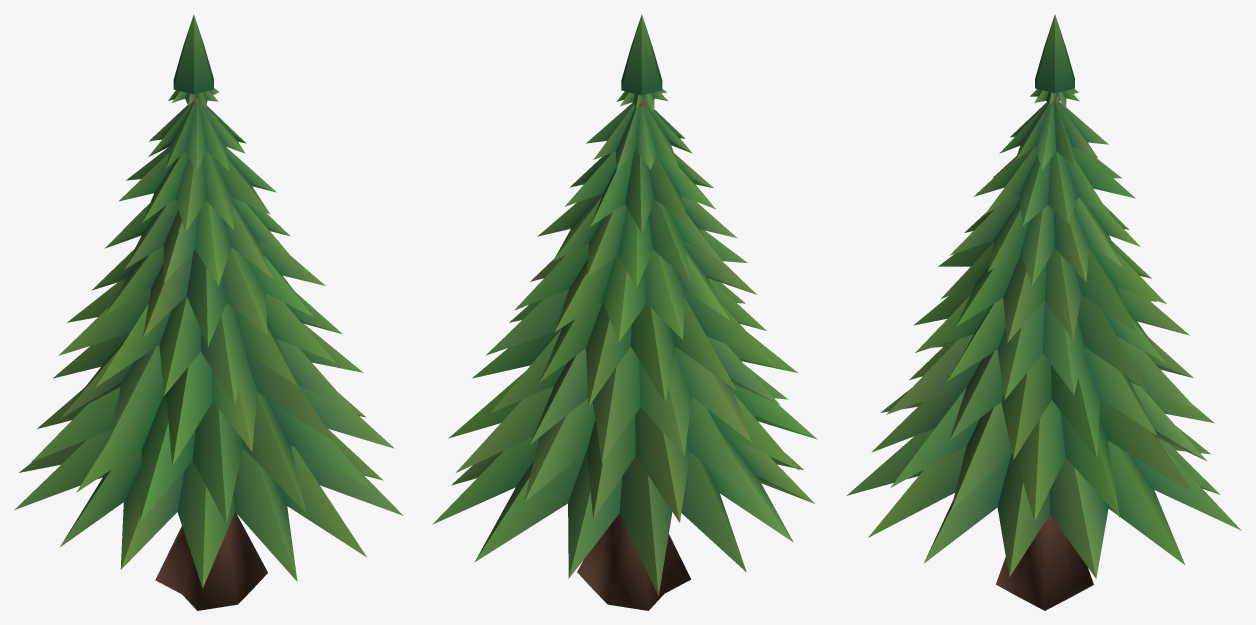
The model's file is f_pine2.glb.
3 views of the same model, side by side, from view 1: azimuth 30°, elevation 25°; view 2: azimuth 150°, elevation 25°; view 3: azimuth 270°, elevation 25° (orthographic). The views are drawn at different scales.
Parts seen in each view (by area): view 1: pine2; view 2: pine2; view 3: pine2.
Boxes of the visible parts, bbox=[...] form: pine2: bbox=[14, 14, 403, 610]; pine2: bbox=[432, 14, 817, 610]; pine2: bbox=[846, 14, 1241, 610].
Bounding box in the file's own units: 4.6 × 8.11 × 5.15.
